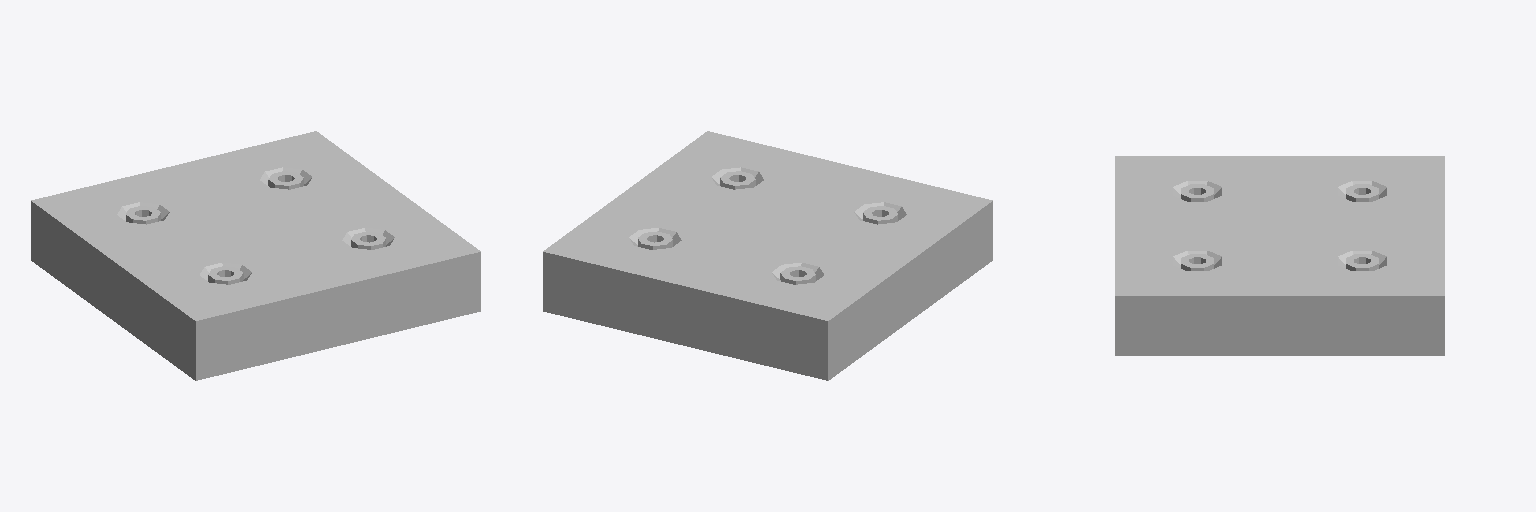
Rendered from trap_floor_pipes.obj.
3 renders of one model, left to right at view 1: azimuth 30°, elevation 25°; view 2: azimuth 150°, elevation 25°; view 3: azimuth 270°, elevation 25°, orthographic.
Parts seen in each view (by area): view 1: trap_floor_pipes_5, trap_floor_pipes, trap_floor_pipes_3, trap_floor_pipes_4, trap_floor_pipes_2; view 2: trap_floor_pipes_5, trap_floor_pipes_2, trap_floor_pipes_4, trap_floor_pipes_3, trap_floor_pipes; view 3: trap_floor_pipes_5, trap_floor_pipes_3, trap_floor_pipes_4.
Part boxes in pixels (x1,y1,x2,y2): trap_floor_pipes_5: (31, 131, 480, 380); trap_floor_pipes: (268, 171, 303, 189); trap_floor_pipes_3: (208, 266, 243, 284); trap_floor_pipes_4: (126, 206, 160, 224); trap_floor_pipes_2: (351, 231, 385, 249); trap_floor_pipes_5: (543, 131, 992, 380); trap_floor_pipes_2: (720, 171, 755, 189); trap_floor_pipes_4: (780, 266, 815, 284); trap_floor_pipes_3: (863, 206, 897, 224); trap_floor_pipes: (638, 231, 672, 249); trap_floor_pipes_5: (1115, 156, 1444, 355); trap_floor_pipes_3: (1181, 184, 1213, 201); trap_floor_pipes_4: (1346, 184, 1378, 201).
Bounding box in the file's own units: 1 × 0.2 × 1.